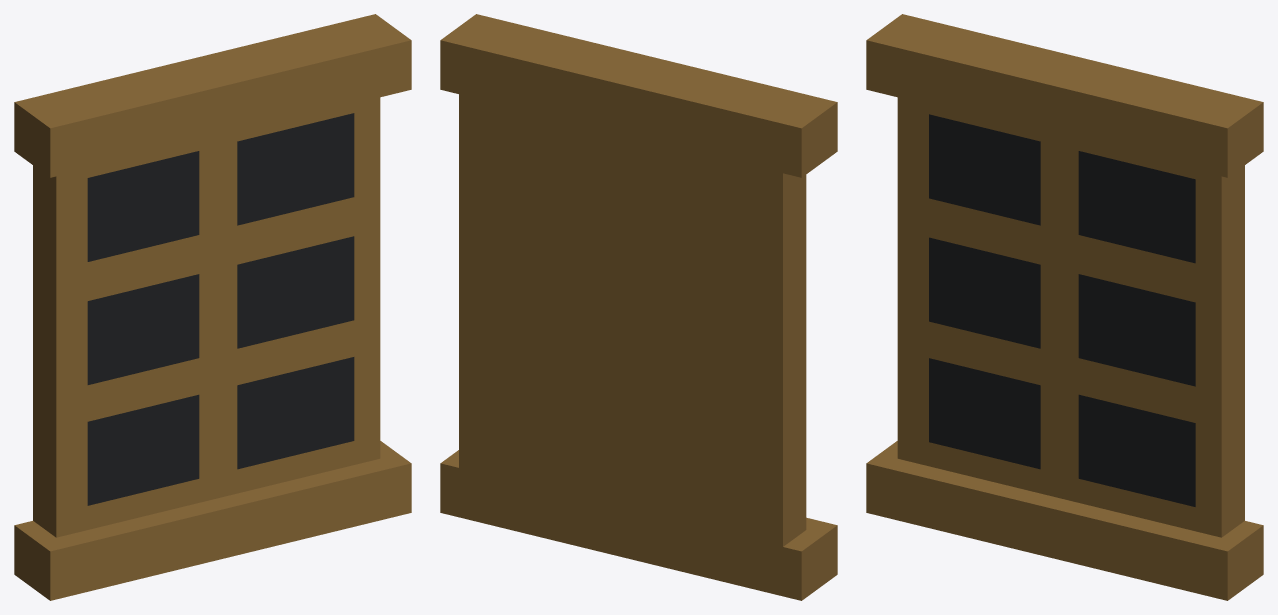
File: SF_Bld_HouseAdd_Window_03.fbx
The picture shows the model from 3 angles, left to right: view 1: azimuth 30°, elevation 25°; view 2: azimuth 150°, elevation 25°; view 3: azimuth 330°, elevation 25°; orthographic projection.
Parts seen in each view (by area): view 1: SF_Bld_HouseAdd_Window_03; view 2: SF_Bld_HouseAdd_Window_03; view 3: SF_Bld_HouseAdd_Window_03.
Boxes of the visible parts, bbox=[...] form: SF_Bld_HouseAdd_Window_03: bbox=[14, 14, 411, 600]; SF_Bld_HouseAdd_Window_03: bbox=[440, 14, 837, 600]; SF_Bld_HouseAdd_Window_03: bbox=[866, 14, 1263, 600].
Size of the model in its own units: 1.92 by 2.4 by 0.3301.
